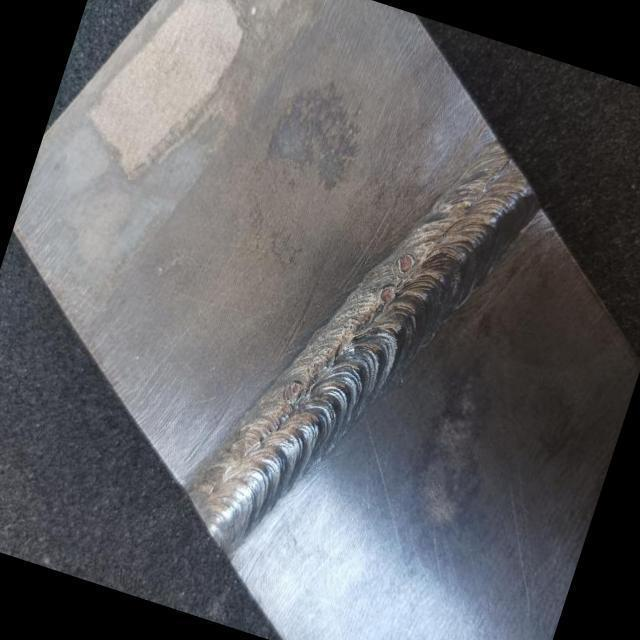defect: (393, 252, 417, 276), (375, 283, 397, 308), (283, 378, 301, 404), (310, 355, 328, 377), (343, 317, 359, 336)
